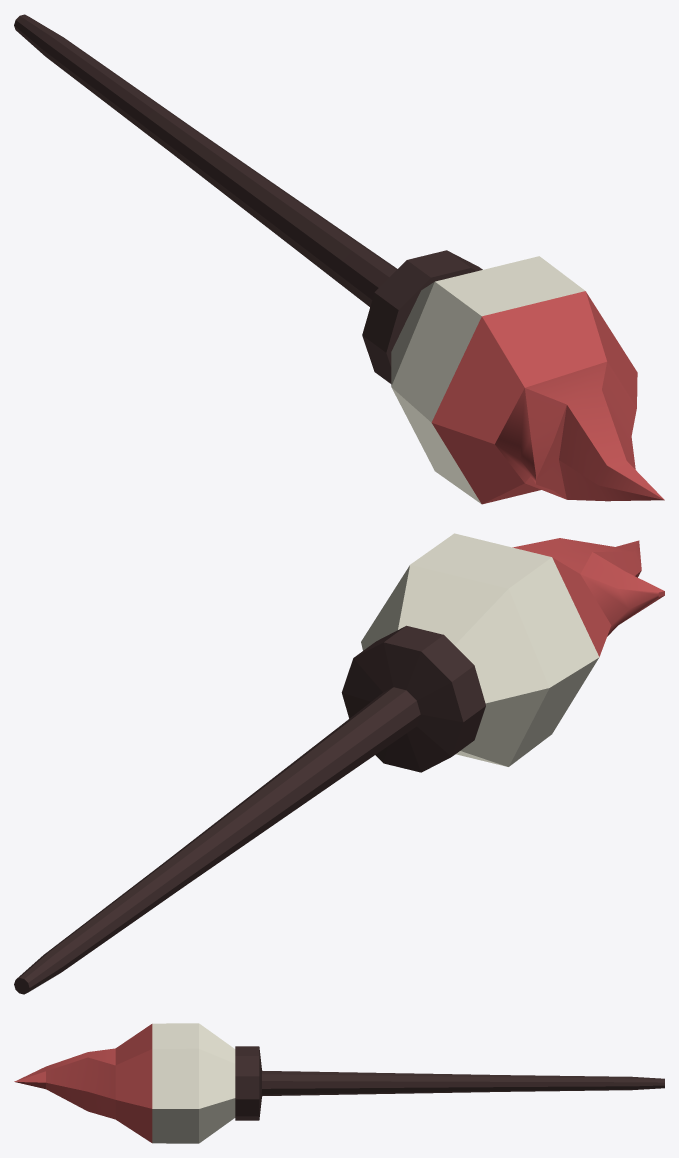
The model's file is VantaBrush.fbx.
3 renders of one model, top to bottom at view 1: azimuth 30°, elevation 25°; view 2: azimuth 150°, elevation 25°; view 3: azimuth 270°, elevation 25°, orthographic. The views are drawn at different scales.
Parts seen in each view (by area): view 1: brush; view 2: brush; view 3: brush.
Part boxes in pixels (left/top/right/bottom): brush: left=14, top=14, right=664, bottom=504; brush: left=14, top=533, right=664, bottom=994; brush: left=14, top=1023, right=664, bottom=1143.
Size of the model in its own units: 34.56 by 30.27 by 188.
